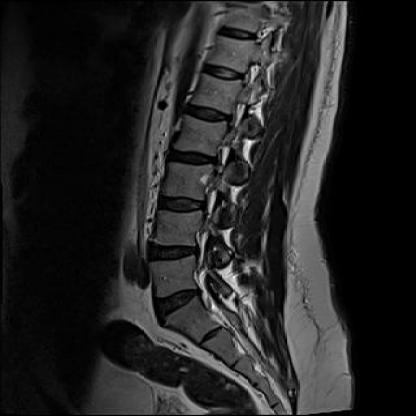Disc Bulgerotation: (148, 285, 209, 321), (142, 238, 204, 265)
